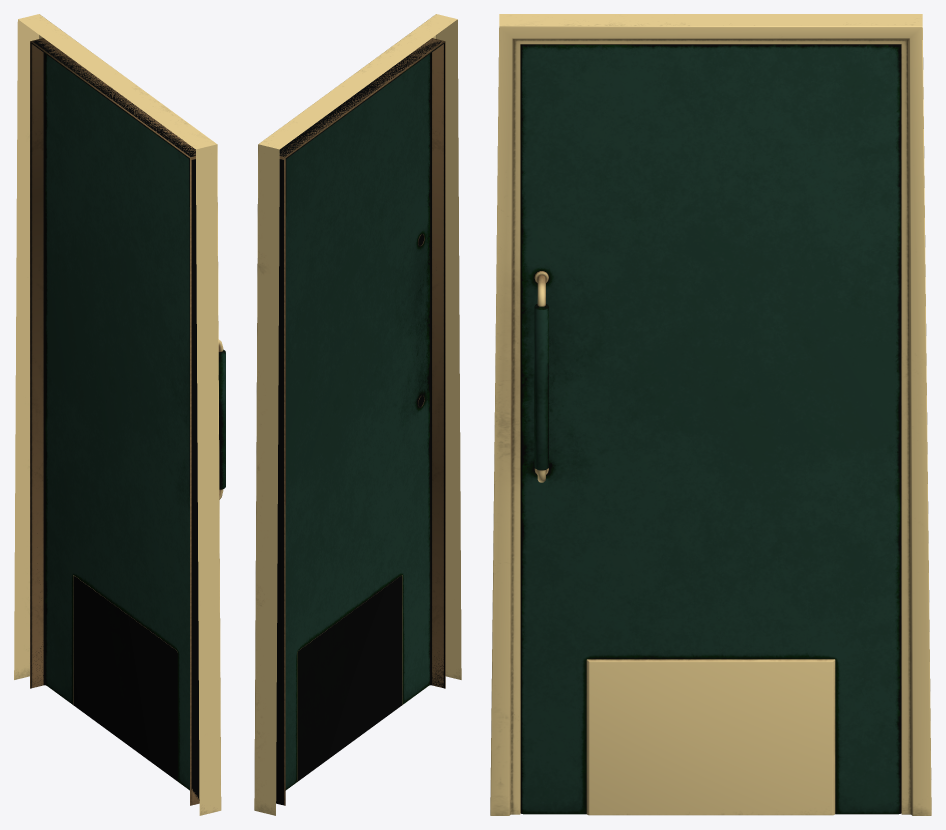
The model's file is B1M1_Door_GEO.fbx.
3 views of the same model, side by side, from view 1: azimuth 30°, elevation 25°; view 2: azimuth 150°, elevation 25°; view 3: azimuth 270°, elevation 25° (orthographic). The views are drawn at different scales.
Visible parts, largest first — view 1: B1M1_Door; view 2: B1M1_Door; view 3: B1M1_Door.
Part boxes in pixels (x1,y1,x2,y2): B1M1_Door: (14,14,225,815); B1M1_Door: (254,14,461,815); B1M1_Door: (490,14,931,815).
Bounding box in the file's own units: 15.24 × 206 × 104.
